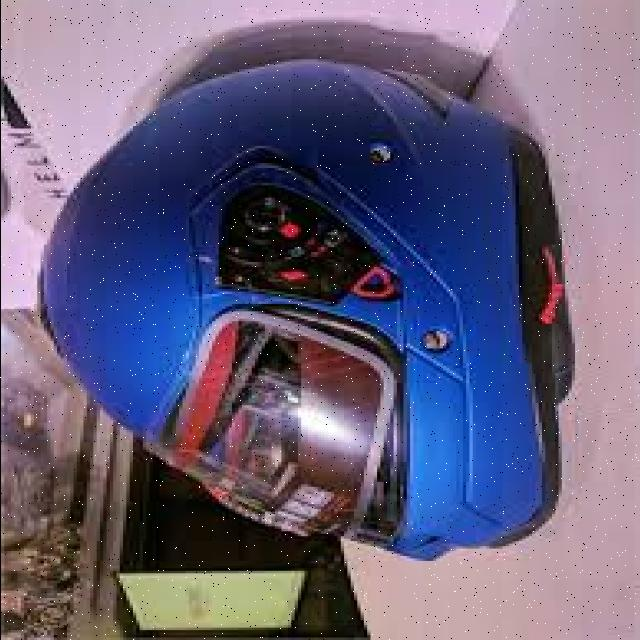Helmet: (38, 60, 552, 560)
